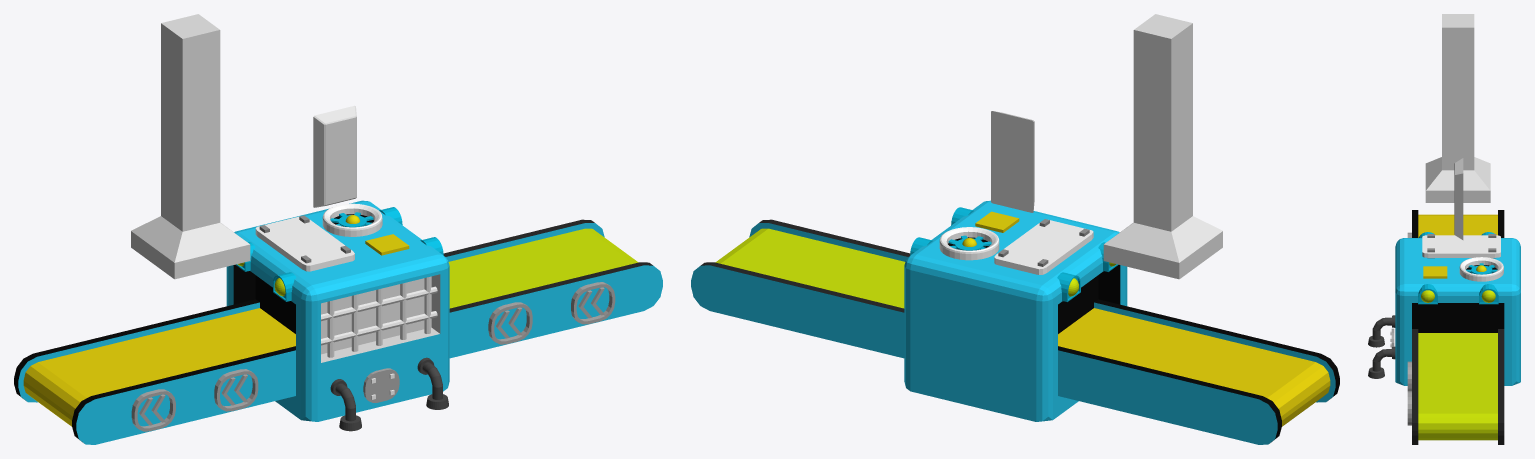
Rendered from NewFurnace.fbx.
3 renders of one model, left to right at view 1: azimuth 30°, elevation 25°; view 2: azimuth 150°, elevation 25°; view 3: azimuth 270°, elevation 25°, orthographic. The views are drawn at different scales.
Visible parts, largest first — view 1: Furnace, Press, OUTline, INline, FurnaceWindow, Plane, FurnaceOUT, FurnaceIN; view 2: Furnace, Press, OUTline, INline, Plane, FurnaceOUT, FurnaceIN; view 3: Furnace, INline, Press, FurnaceIN, OUTline, Plane, FurnaceOUT.
Part boxes in pixels (x1,y1,x2,y2): Furnace: [18, 200, 662, 444]; Press: [131, 14, 250, 279]; OUTline: [23, 308, 295, 426]; INline: [448, 228, 638, 308]; FurnaceWindow: [321, 274, 440, 362]; Plane: [313, 105, 356, 207]; FurnaceOUT: [14, 299, 295, 442]; FurnaceIN: [443, 219, 652, 312]; Furnace: [691, 200, 1335, 444]; Press: [1103, 14, 1222, 279]; OUTline: [1058, 308, 1330, 426]; INline: [715, 228, 905, 308]; Plane: [991, 111, 1034, 212]; FurnaceOUT: [1058, 299, 1339, 442]; FurnaceIN: [701, 219, 910, 312]; Furnace: [1368, 232, 1520, 425]; INline: [1418, 333, 1497, 440]; Press: [1425, 14, 1490, 202]; FurnaceIN: [1412, 329, 1504, 444]; OUTline: [1418, 214, 1497, 237]; Plane: [1454, 158, 1463, 240]; FurnaceOUT: [1412, 210, 1504, 237].
Size of the model in its own units: 799 by 244 by 501.
